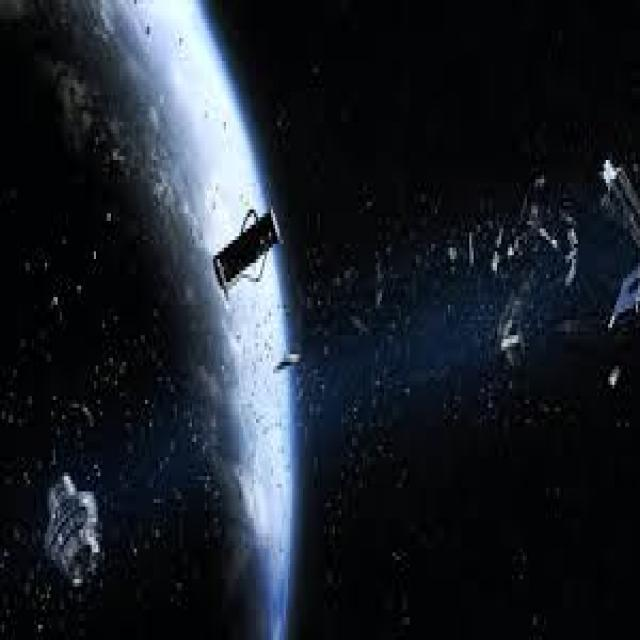large_debris: (396, 156, 640, 438), (214, 189, 298, 295)
satellite: (32, 462, 131, 617)
